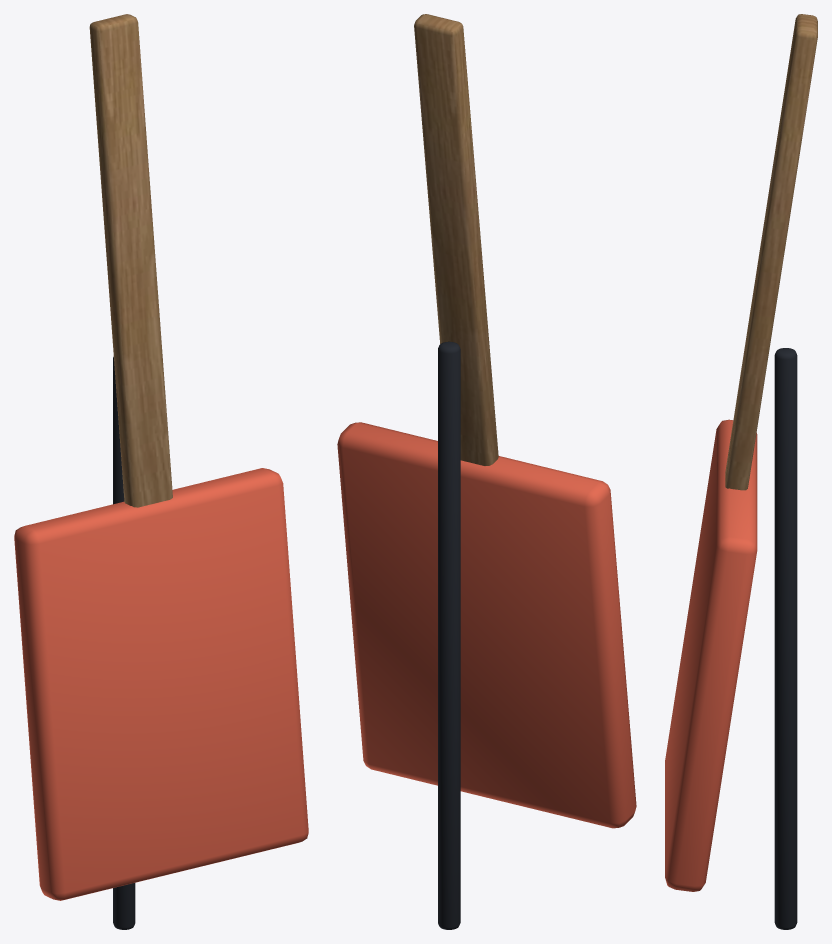
Rendered from guitar-electric-92f44be98721.glb.
3 renders of one model, left to right at view 1: azimuth 30°, elevation 25°; view 2: azimuth 150°, elevation 25°; view 3: azimuth 270°, elevation 25°, orthographic.
Parts seen in each view (by area): view 1: Guitar_Body, Guitar_Neck, Stand_Neck; view 2: Guitar_Body, Guitar_Neck, Stand_Neck; view 3: Guitar_Body, Stand_Neck, Guitar_Neck.
Boxes of the visible parts, x1,y1,x2,y2 form: Guitar_Body: (14,468,308,900); Guitar_Neck: (89,14,172,507); Stand_Neck: (113,357,135,929); Guitar_Body: (337,422,636,828); Guitar_Neck: (414,14,498,465); Stand_Neck: (438,341,460,929); Guitar_Body: (665,419,757,891); Stand_Neck: (774,348,797,929); Guitar_Neck: (725,14,817,490).
Size of the model in its own units: 0.32 by 1.07 by 0.1635.
3 materials, 1 textured.
